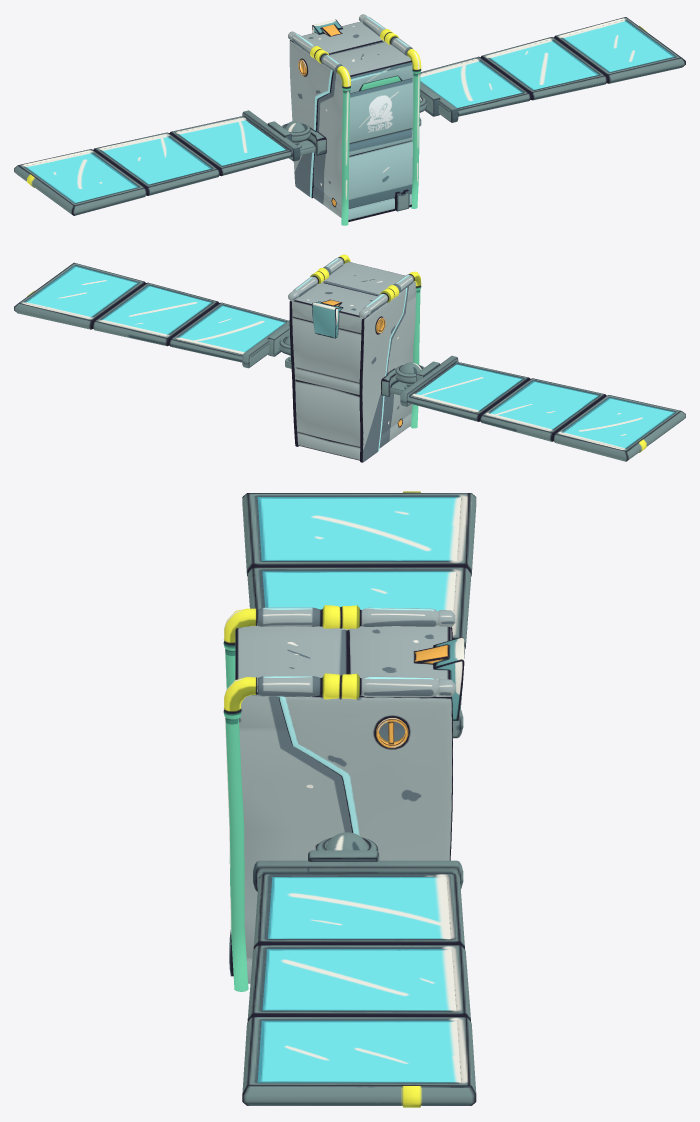
Rendered from Satelite2.glb.
3 views of the same model, one above another, from view 1: azimuth 30°, elevation 25°; view 2: azimuth 150°, elevation 25°; view 3: azimuth 270°, elevation 25° (orthographic). The views are drawn at different scales.
Parts seen in each view (by area): view 1: Satelit; view 2: Satelit; view 3: Satelit.
Part boxes in pixels (x1,y1,x2,y2): Satelit: (14, 14, 685, 225); Satelit: (14, 254, 685, 462); Satelit: (223, 491, 476, 1107).
Size of the model in its own units: 9.3 by 2.27 by 1.65.
1 material, 1 textured.
